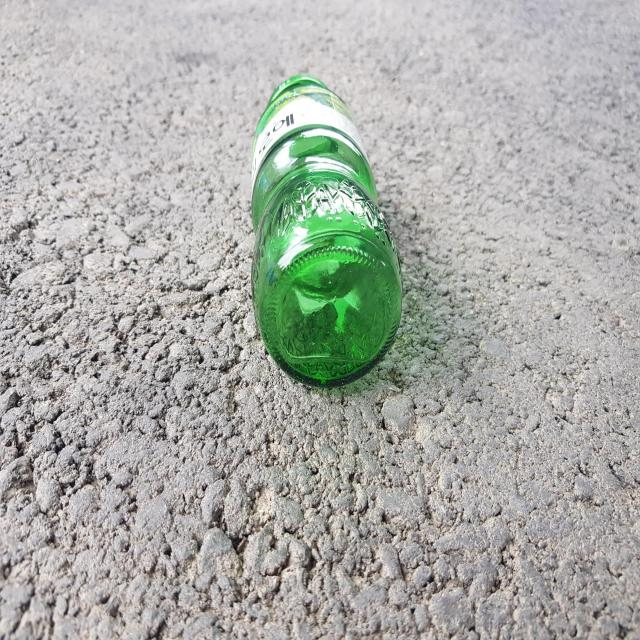glass: (251, 74, 402, 386)
